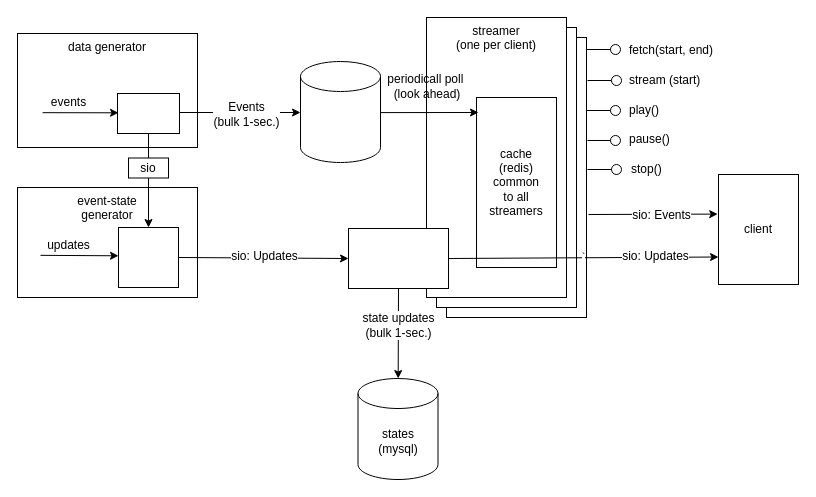
The diagram is 816 pixels wide and 497 high, and some of its shapes have lost their labels. Each missing label, with the centre of its shape:
"buffer (bulk)" belongs at point (148, 113).
"events (es)" belongs at point (340, 111).
"short history ring" belongs at point (148, 257).
"state updates" belongs at point (398, 258).
